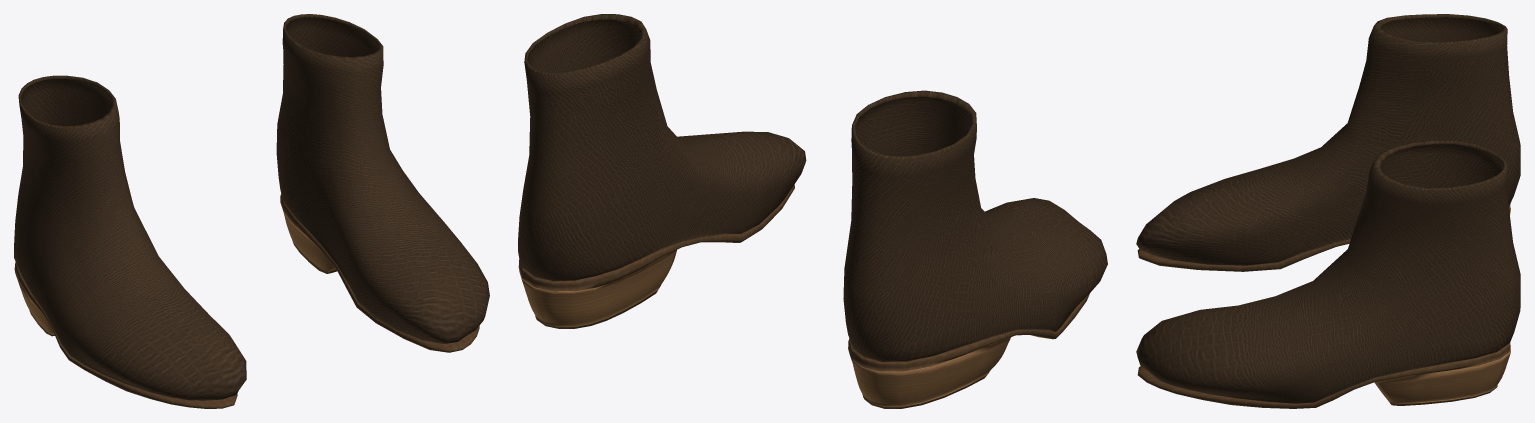
File: shoes_ankle_boots.gltf
The picture shows the model from 3 angles, left to right: view 1: azimuth 30°, elevation 25°; view 2: azimuth 150°, elevation 25°; view 3: azimuth 270°, elevation 25°; orthographic projection. The views are drawn at different scales.
Parts seen in each view (by area): view 1: shoes_ankle_boots; view 2: shoes_ankle_boots; view 3: shoes_ankle_boots.
Part boxes in pixels (box(x1,y1,x2,y2)): shoes_ankle_boots: box(14, 14, 489, 408); shoes_ankle_boots: box(518, 14, 1107, 408); shoes_ankle_boots: box(1136, 14, 1520, 408).
Size of the model in its own units: 0.3654 by 0.1946 by 0.2997.
Materials: 1 (1 with a texture image).
